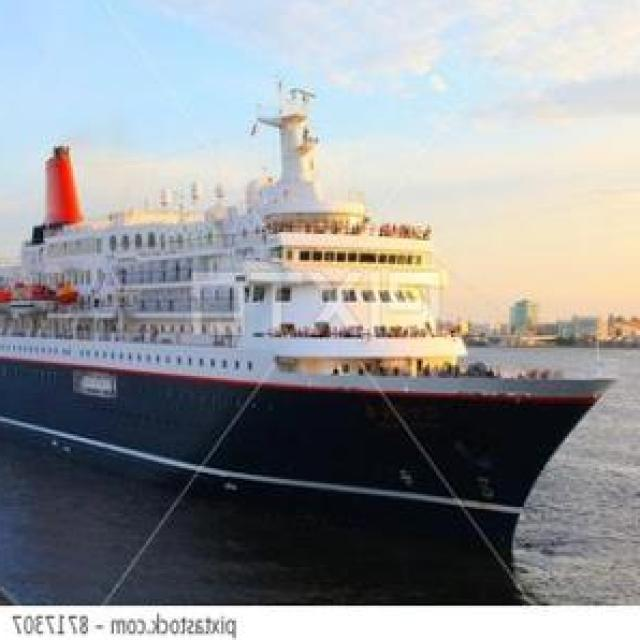passenger ship: (0, 103, 606, 546)
